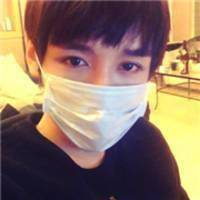face_mask: (39, 6, 154, 160)
